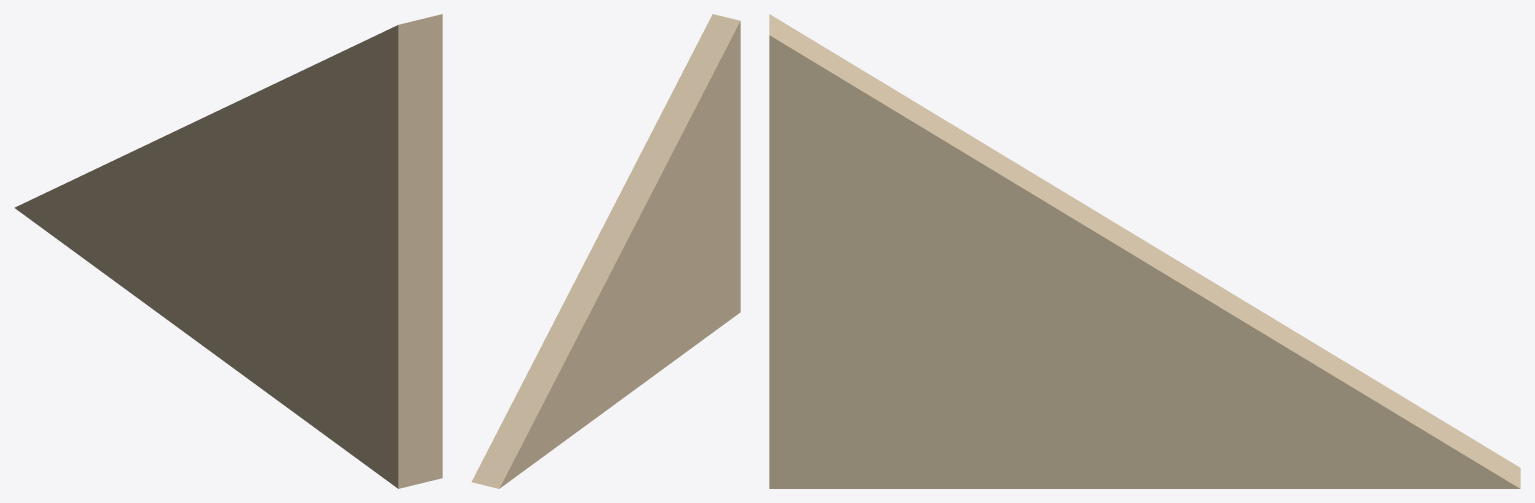
File: SM_WL_GableHalf3m.fbx
3 renders of one model, left to right at view 1: azimuth 30°, elevation 25°; view 2: azimuth 150°, elevation 25°; view 3: azimuth 270°, elevation 25°, orthographic. The views are drawn at different scales.
Parts seen in each view (by area): view 1: SM_WL_GableHalf3m; view 2: SM_WL_GableHalf3m; view 3: SM_WL_GableHalf3m.
Part boxes in pixels (x1,y1,x2,y2): SM_WL_GableHalf3m: (14,14,442,488); SM_WL_GableHalf3m: (471,14,740,488); SM_WL_GableHalf3m: (769,14,1520,488).
Size of the model in its own units: 3 by 0.2 by 2.
